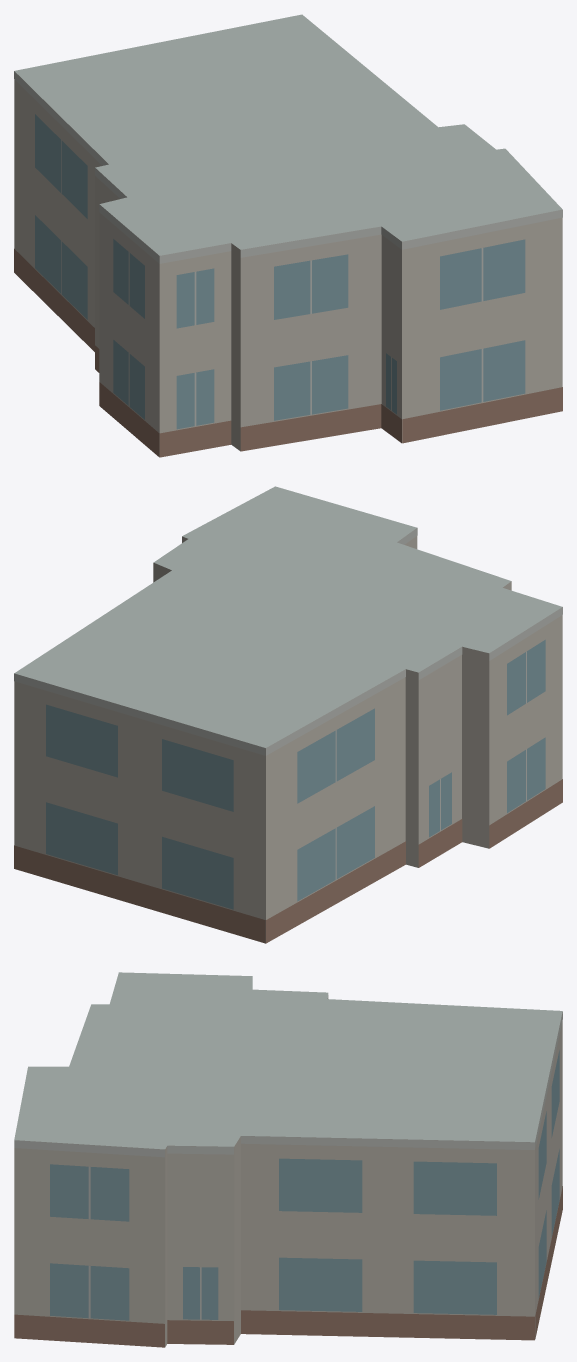
The model's file is survey-upis-32656426.glb.
3 renders of one model, top to bottom at view 1: azimuth 30°, elevation 25°; view 2: azimuth 150°, elevation 25°; view 3: azimuth 270°, elevation 25°, orthographic. The views are drawn at different scales.
Visible parts, largest first — view 1: survey-upis-32656426.tmp; view 2: survey-upis-32656426.tmp; view 3: survey-upis-32656426.tmp.
Part boxes in pixels (<box>): survey-upis-32656426.tmp: <box>14,14,562,457</box>; survey-upis-32656426.tmp: <box>14,486,562,943</box>; survey-upis-32656426.tmp: <box>14,972,562,1347</box>.
Size of the model in its own units: 11.71 by 6.1 by 15.32.
